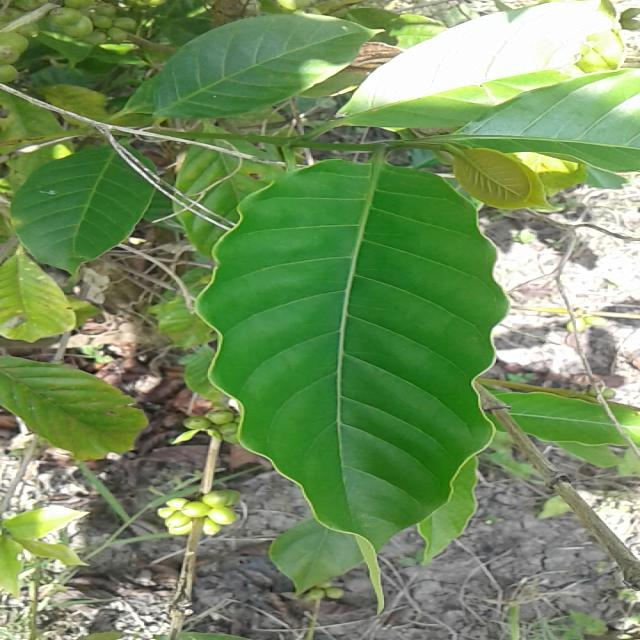Sanas: (199, 160, 508, 550)
